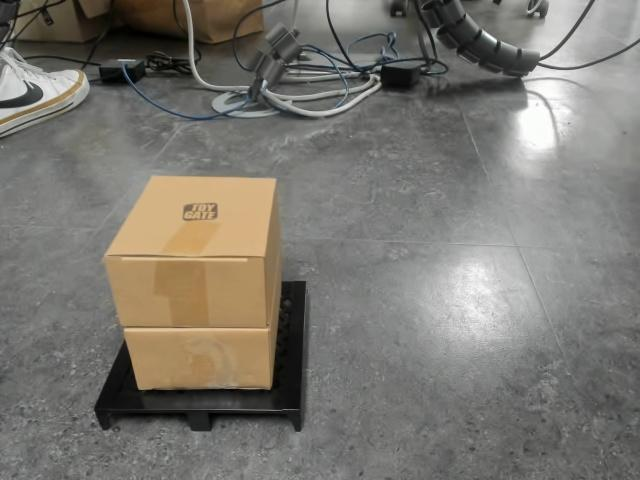box: (95, 174, 310, 432)
